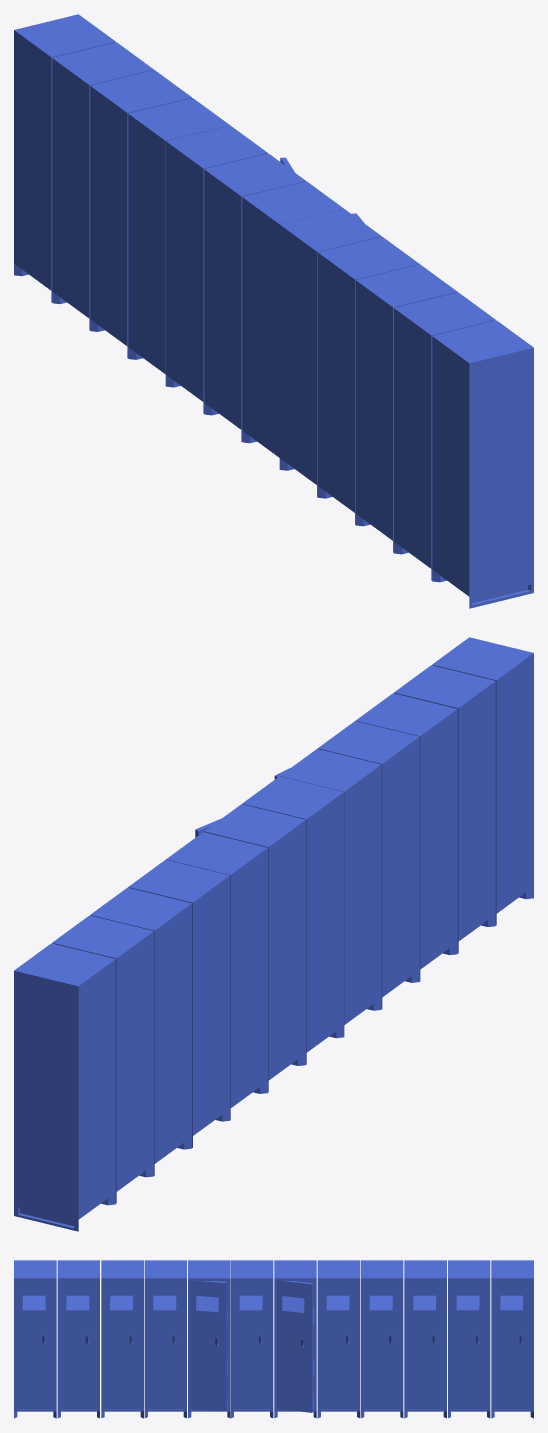
Rendered from boxes.fbx.
3 renders of one model, top to bottom at view 1: azimuth 30°, elevation 25°; view 2: azimuth 150°, elevation 25°; view 3: azimuth 270°, elevation 25°, orthographic. The views are drawn at different scales.
Parts seen in each view (by area): view 1: door.018, door, door.014, door.005, door.011, door.017, door.015, door.001, door.013, door.012, door.007; view 2: door.017, door, door.015, door.001, door.018, door.013, door.014, door.012, door.007, door.005, door.011; view 3: door, door.011, door.005, door.014, door.017, door.018, door.012, door.013, door.001, door.007, door.015.
Boxes of the visible parts, <box> form: door.018: <box>432,320,533,608</box>; door: <box>204,153,381,496</box>; door.014: <box>355,264,457,552</box>; door.005: <box>90,70,191,358</box>; door.011: <box>166,125,267,413</box>; door.017: <box>14,14,115,302</box>; door.015: <box>394,292,495,580</box>; door.001: <box>52,42,153,330</box>; door.013: <box>317,236,419,524</box>; door.012: <box>128,98,229,385</box>; door.007: <box>242,181,343,457</box>; door.017: <box>14,943,115,1231</box>; door: <box>195,749,381,1092</box>; door.015: <box>394,665,495,953</box>; door.001: <box>52,915,153,1203</box>; door.018: <box>432,637,533,925</box>; door.013: <box>317,721,419,1008</box>; door.014: <box>355,693,457,981</box>; door.012: <box>128,859,229,1147</box>; door.007: <box>242,776,343,1064</box>; door.005: <box>90,887,191,1175</box>; door.011: <box>166,832,267,1120</box>; door: <box>188,1260,316,1418</box>; door.011: <box>317,1260,360,1418</box>; door.005: <box>404,1260,446,1418</box>; door.014: <box>101,1260,143,1418</box>; door.017: <box>491,1260,533,1418</box>; door.018: <box>14,1260,56,1418</box>; door.012: <box>361,1260,403,1418</box>; door.013: <box>144,1260,186,1418</box>; door.001: <box>448,1260,490,1418</box>; door.007: <box>231,1260,273,1418</box>; door.015: <box>57,1260,99,1418</box>.
Bounding box in the file's own units: 240 × 726 × 2444.
